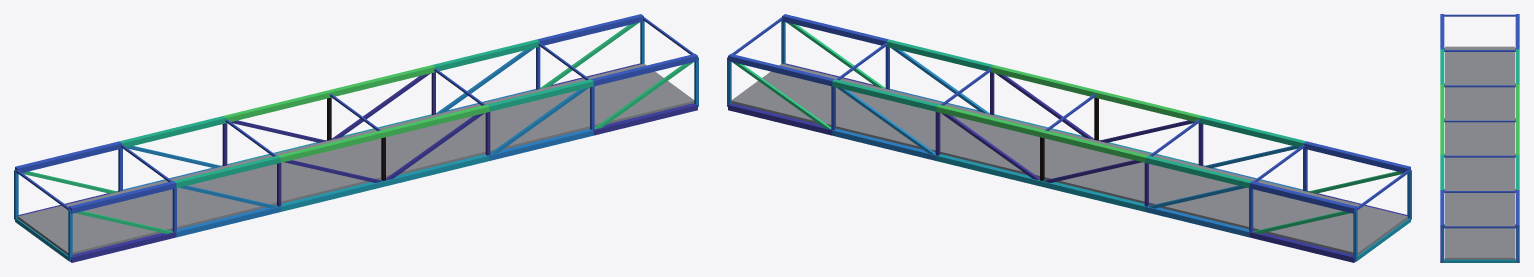
File: 20_1.5_6_HEA200.glb
The picture shows the model from 3 angles, left to right: view 1: azimuth 30°, elevation 25°; view 2: azimuth 150°, elevation 25°; view 3: azimuth 270°, elevation 25°; orthographic projection. The views are drawn at different scales.
Bounding box in the file's own units: 20.09 × 1.66 × 3.16.
